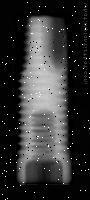Neoss: (15, 13, 73, 184)
